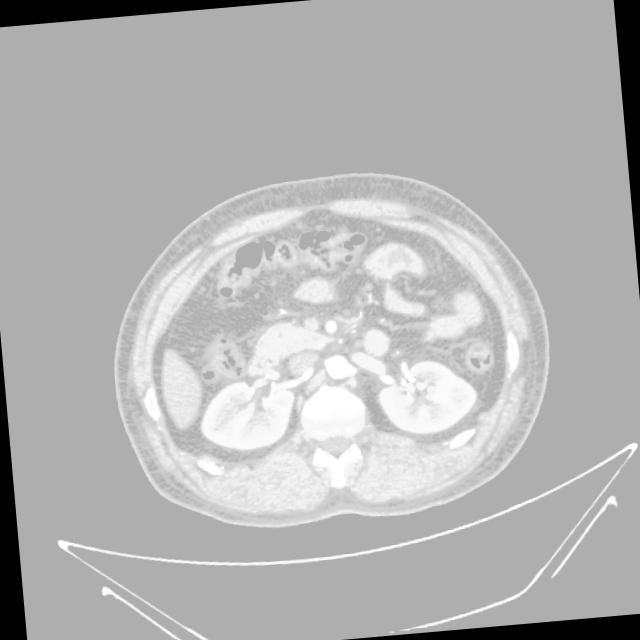NORMAL: (106, 164, 538, 629)
